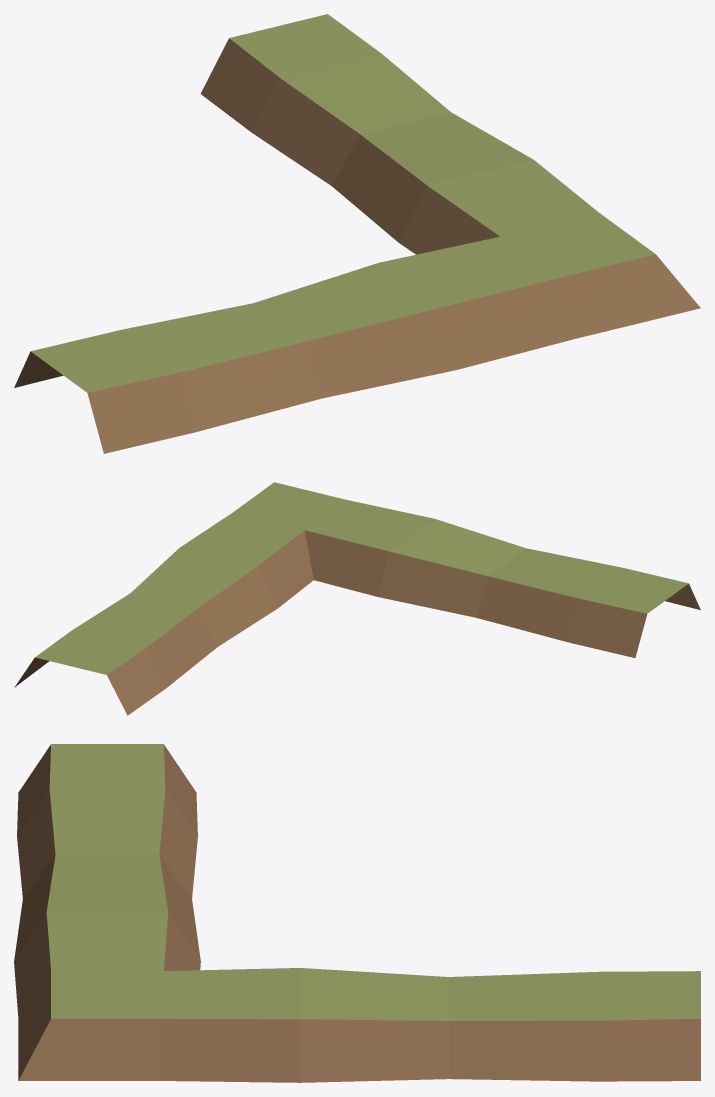
Rendered from Varambu_Corner.glb.
The picture shows the model from 3 angles, top to bottom: view 1: azimuth 30°, elevation 25°; view 2: azimuth 150°, elevation 25°; view 3: azimuth 270°, elevation 25°; orthographic projection. The views are drawn at different scales.
Parts seen in each view (by area): view 1: Varambu_Corner; view 2: Varambu_Corner; view 3: Varambu_Corner.
Part boxes in pixels (bbox=[...]): Varambu_Corner: bbox=[14, 14, 700, 453]; Varambu_Corner: bbox=[14, 482, 700, 715]; Varambu_Corner: bbox=[14, 744, 700, 1082].
Bounding box in the file's own units: 2.31 × 0.185 × 2.31.
